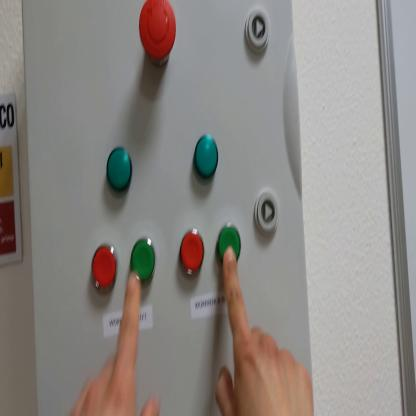hand: (217, 245, 315, 415), (71, 271, 159, 412)
left green button: (133, 237, 155, 280)
left red button: (94, 248, 117, 289)
right green button: (218, 223, 243, 265)
right red button: (182, 232, 205, 276)
